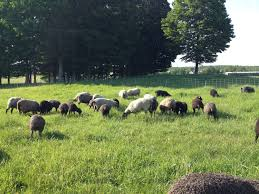sheep: (120, 97, 154, 124), (28, 113, 46, 141), (90, 95, 121, 110), (38, 97, 61, 117), (6, 93, 24, 118), (17, 98, 40, 116), (72, 90, 93, 107), (60, 101, 83, 116), (204, 102, 221, 122), (159, 96, 176, 115), (191, 94, 204, 115), (96, 104, 112, 121), (126, 84, 143, 100), (175, 101, 187, 119), (153, 88, 174, 98), (115, 85, 128, 101), (208, 88, 223, 101), (239, 83, 255, 94)
